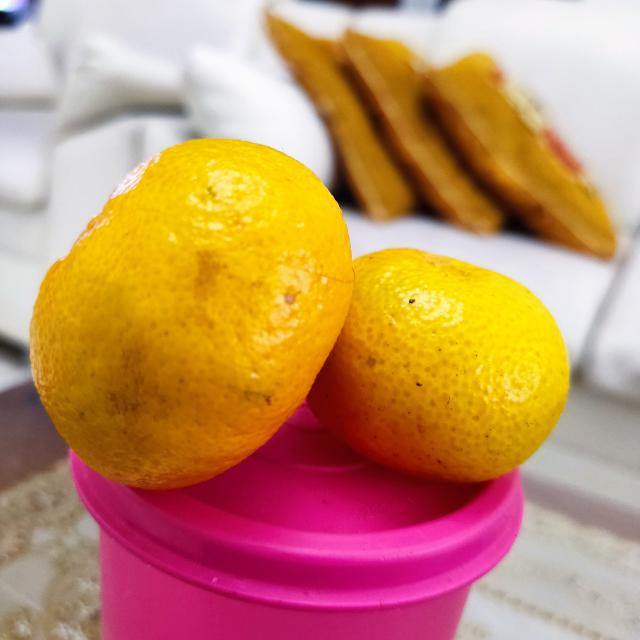orange: (32, 134, 352, 494), (303, 246, 570, 476)
